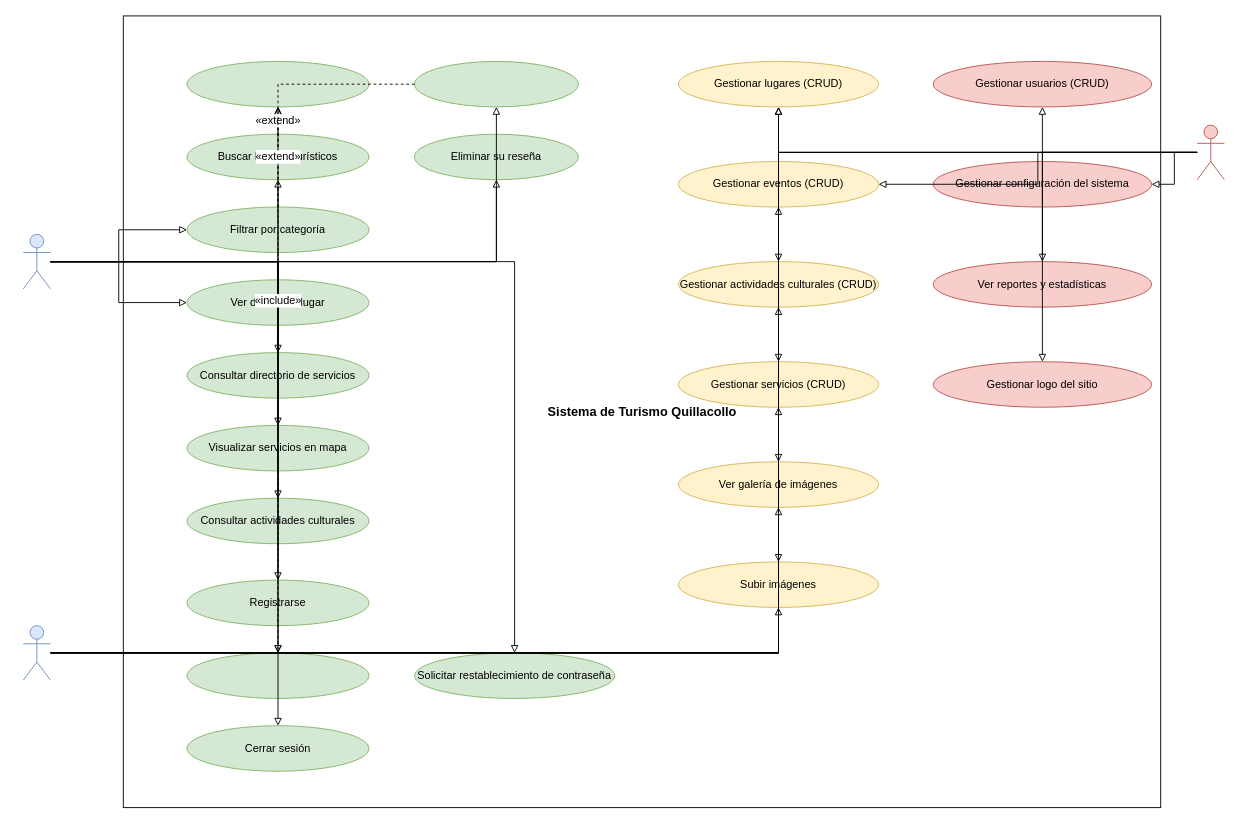
The diagram is 1259 pixels wide and 824 high, and some of its shapes have lost their labels. The centre of each missing label's shape, as x and y in pixels:
"Administrador" goes at (1210,152).
"Calificar lugar" goes at (496,84).
"Editor" goes at (36,652).
"Iniciar sesión" goes at (277,675).
"Visitante" goes at (36,261).
"Visualizar mapa interactivo" goes at (277,84).
